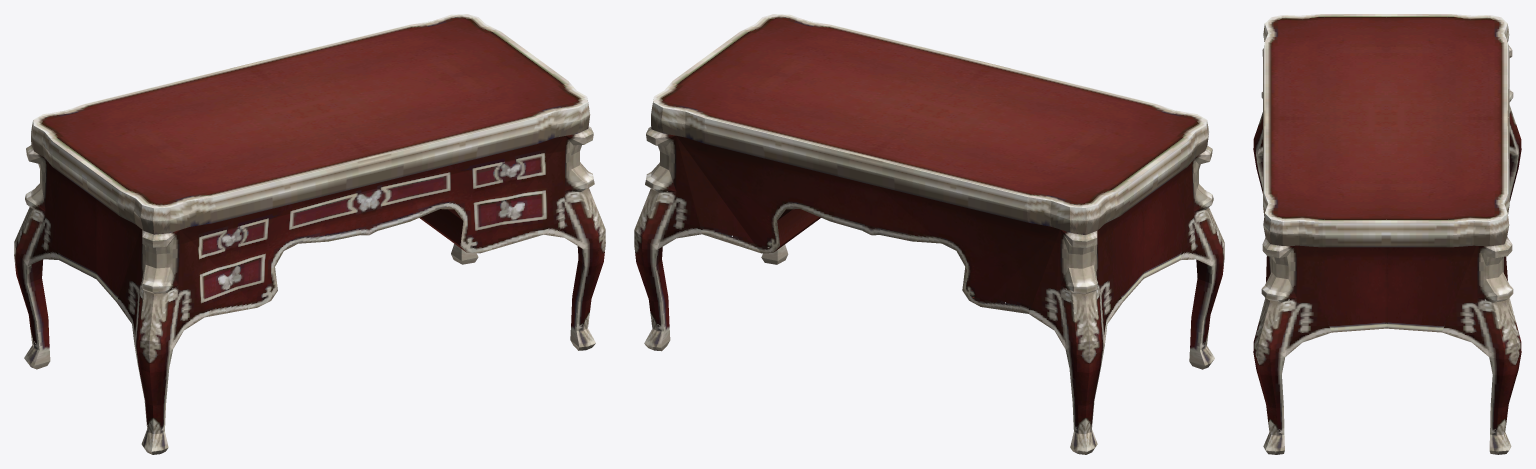
Rendered from furni_0201107_01.FBX.
The picture shows the model from 3 angles, left to right: view 1: azimuth 30°, elevation 25°; view 2: azimuth 150°, elevation 25°; view 3: azimuth 270°, elevation 25°; orthographic projection. The views are drawn at different scales.
Visible parts, largest first — view 1: furni_0201107_01; view 2: furni_0201107_01; view 3: furni_0201107_01.
Boxes of the visible parts, <box> form: furni_0201107_01: <box>14,14,605,454</box>; furni_0201107_01: <box>634,14,1224,454</box>; furni_0201107_01: <box>1253,14,1521,454</box>.
Bounding box in the file's own units: 162 × 81.45 × 84.69.
1 material, 1 textured.
